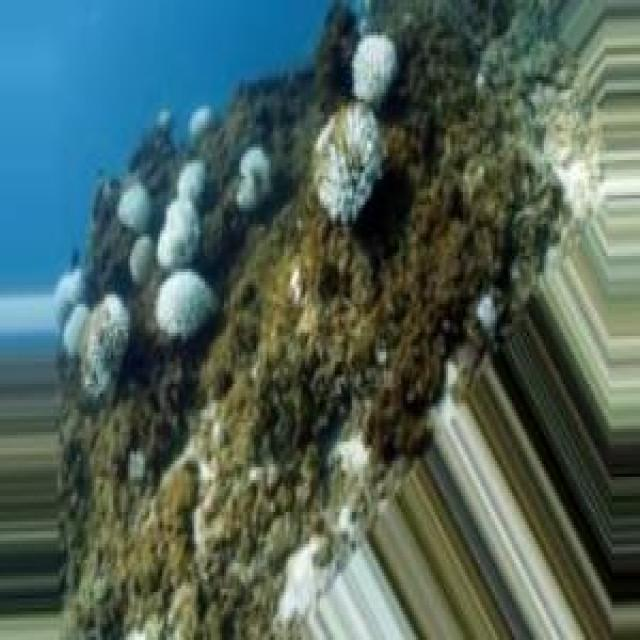Bleached: (312, 103, 381, 222), (82, 295, 129, 398), (155, 270, 219, 337), (353, 33, 396, 100), (240, 148, 272, 209), (178, 158, 210, 206), (120, 187, 148, 228), (131, 235, 155, 279)
